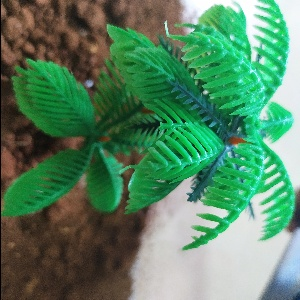plant: (1, 1, 293, 240)
